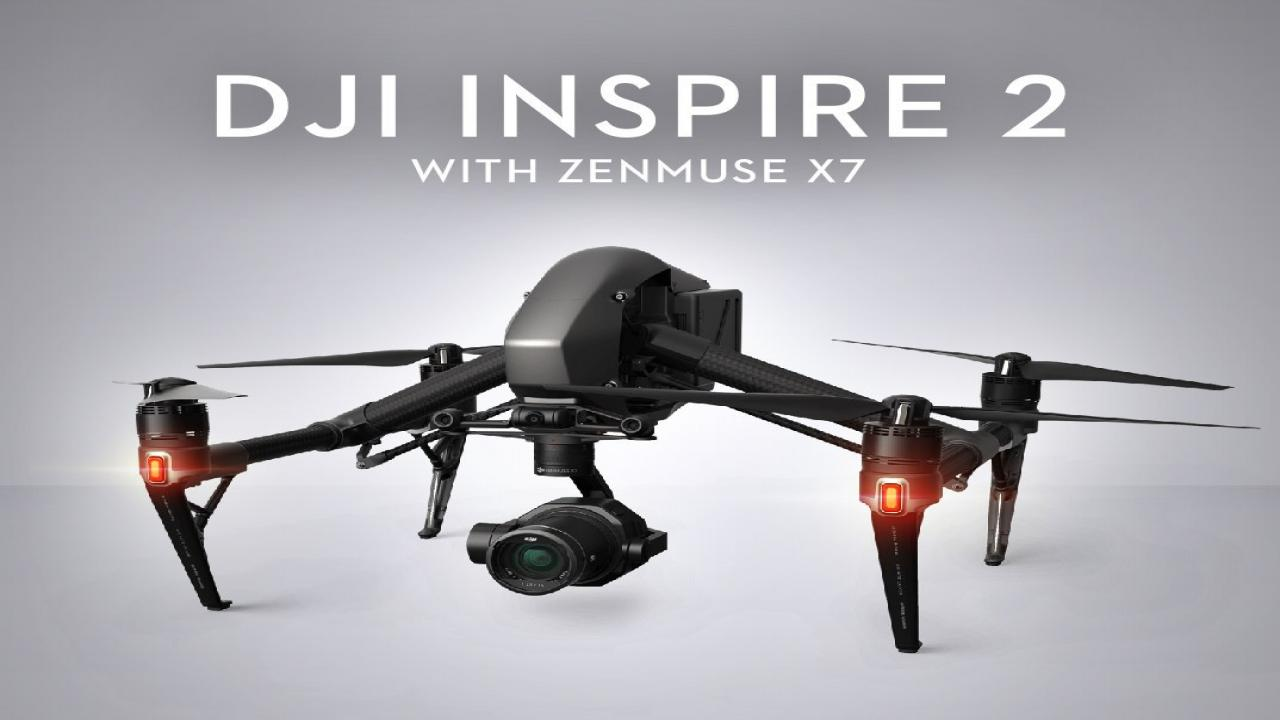Drone: (113, 240, 1264, 660)
